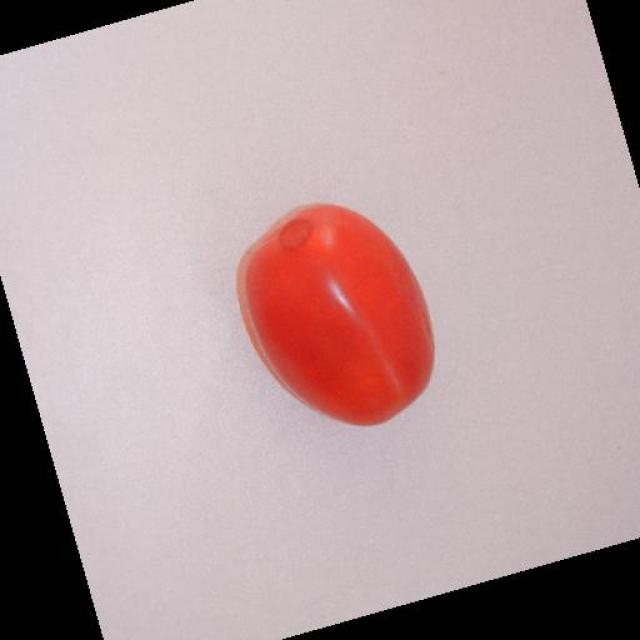Fresh_tomato: (232, 204, 434, 436)
